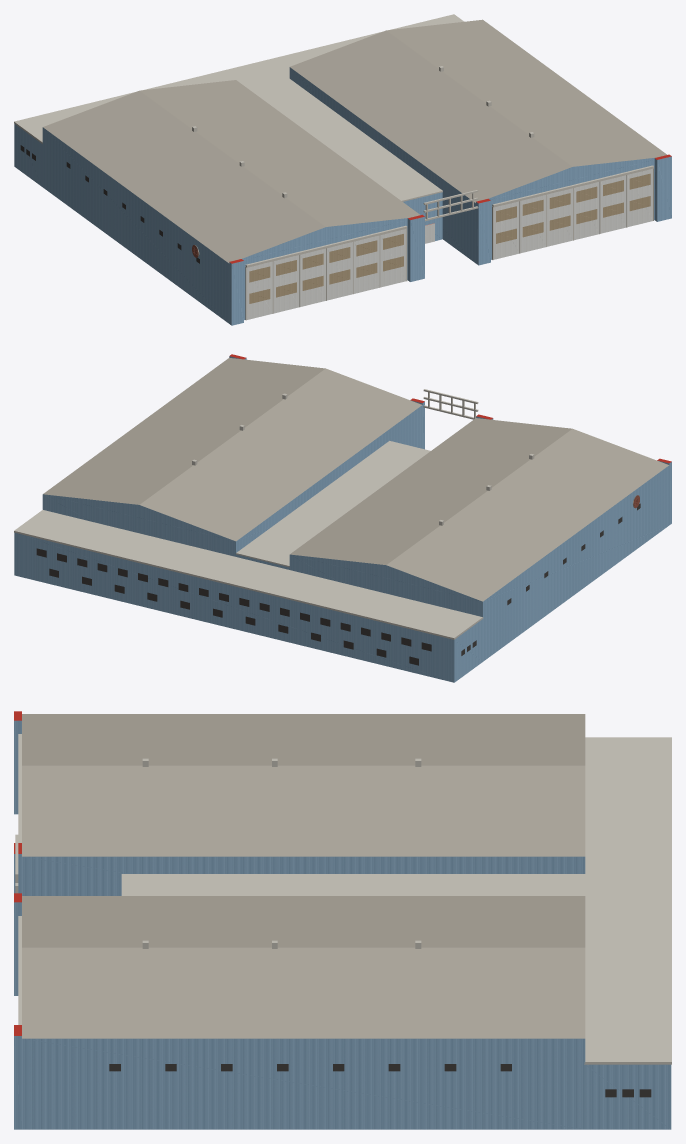
Rendered from cyxd_hangar39.gltf.
3 renders of one model, top to bottom at view 1: azimuth 30°, elevation 25°; view 2: azimuth 150°, elevation 25°; view 3: azimuth 270°, elevation 25°, orthographic. The views are drawn at different scales.
Visible parts, largest first — view 1: cyxd_hangar39; view 2: cyxd_hangar39; view 3: cyxd_hangar39.
Boxes of the visible parts, x1=… form: cyxd_hangar39: x1=14, y1=14, x2=671, y2=325; cyxd_hangar39: x1=14, y1=354, x2=671, y2=682; cyxd_hangar39: x1=14, y1=711, x2=671, y2=1129.
Bounding box in the file's own units: 107 × 17.9 × 91.7.
